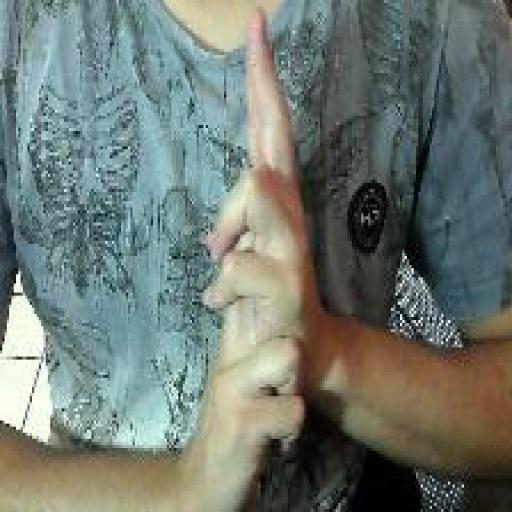Hitsuji -ram-: (199, 4, 324, 508)
